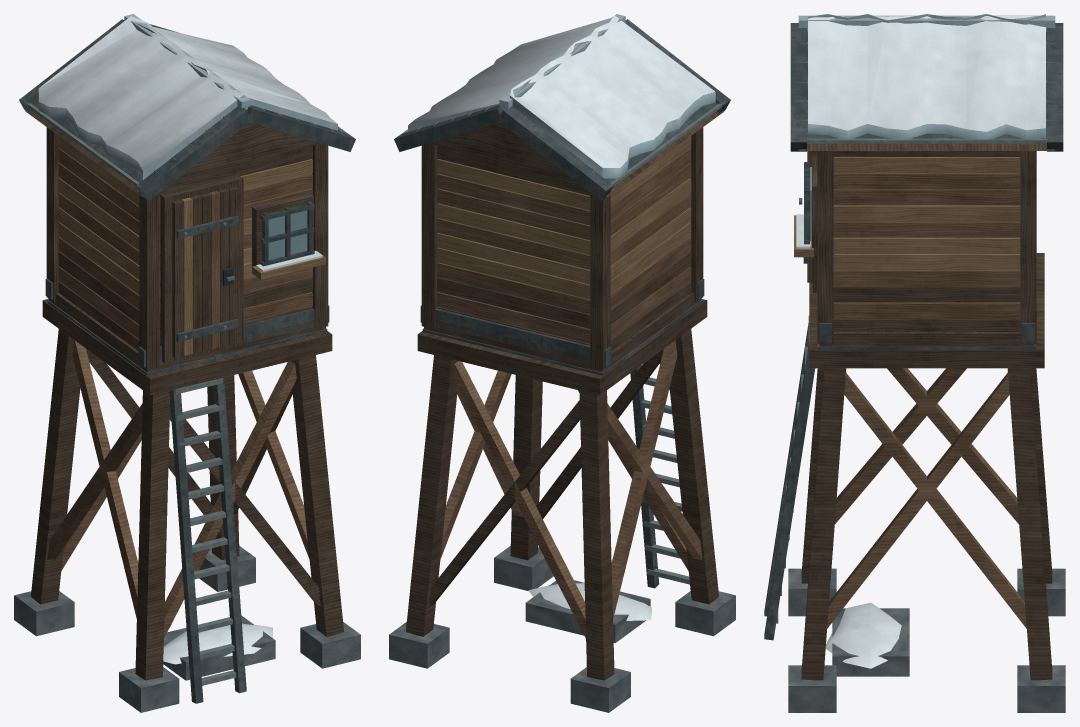
File: 21_Fire_Lookout.obj
3 renders of one model, left to right at view 1: azimuth 30°, elevation 25°; view 2: azimuth 150°, elevation 25°; view 3: azimuth 270°, elevation 25°, orthographic. The views are drawn at different scales.
Parts seen in each view (by area): view 1: 21_Fire_Lookout; view 2: 21_Fire_Lookout; view 3: 21_Fire_Lookout.
Part boxes in pixels (x1,y1,x2,y2): 21_Fire_Lookout: (14,14,360,712); 21_Fire_Lookout: (389,14,735,712); 21_Fire_Lookout: (764,14,1065,712).
Size of the model in its own units: 2.23 by 5.67 by 2.42.
Materials: 11 (11 with a texture image).
